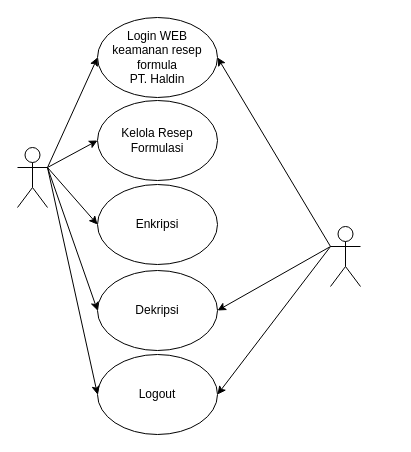
The diagram is 411 pixels wide and 452 high, and some of its shapes have lost their labels. Here are the shapes that lost their labels. From the top down, the box of each, then its label:
(16, 146, 48, 208): RnD
(330, 226, 360, 286): Operator Produksi & Staff Produksi
